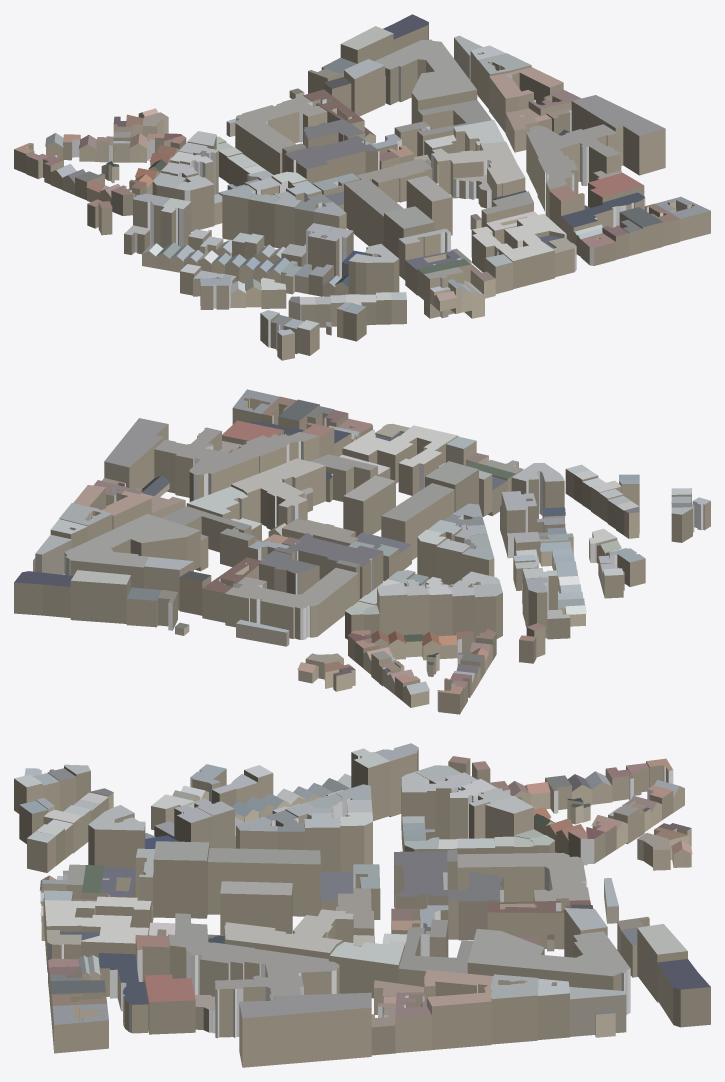
The picture shows the model from 3 angles, top to bottom: view 1: azimuth 30°, elevation 25°; view 2: azimuth 150°, elevation 25°; view 3: azimuth 270°, elevation 25°; orthographic projection. The views are drawn at different scales.
Parts seen in each view (by area): view 1: tuile; view 2: tuile; view 3: tuile.
Part boxes in pixels (box(x1,y1,x2,y2)): tuile: box(14, 14, 710, 360); tuile: box(14, 389, 710, 714); tuile: box(14, 743, 710, 1067).
Size of the model in its own units: 265 by 34.29 by 266.
